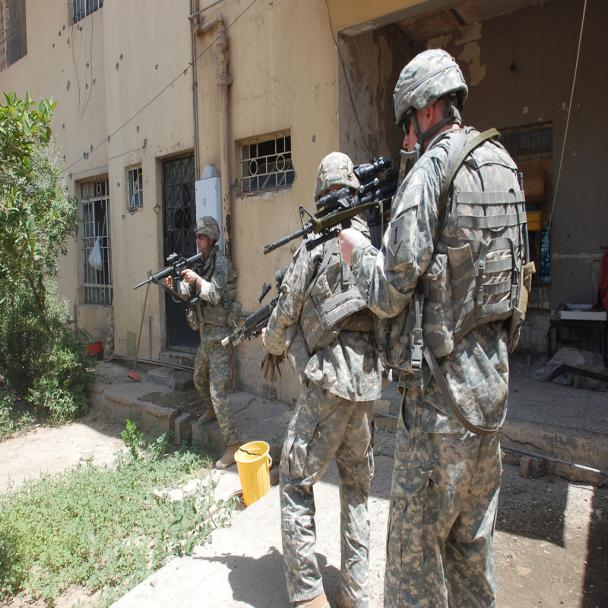Gun: (256, 153, 407, 257), (132, 246, 212, 298)
